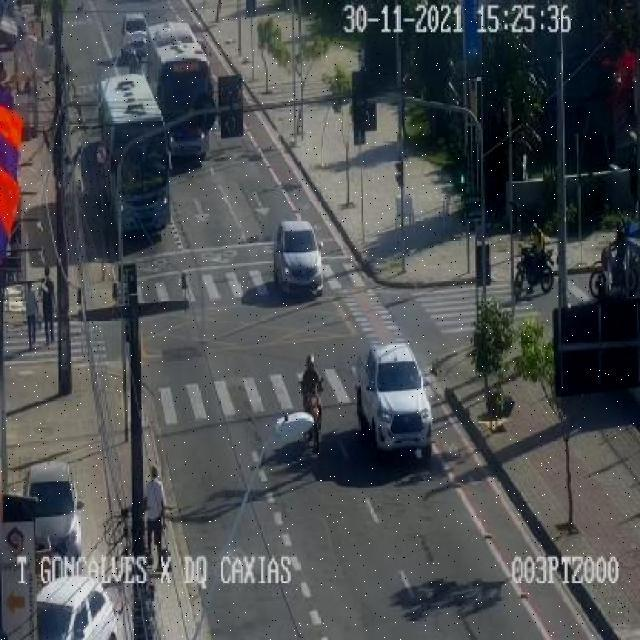Bus: (94, 76, 170, 244), (145, 21, 214, 162)
Car: (358, 341, 434, 455), (22, 460, 82, 554), (36, 575, 120, 637), (272, 220, 324, 297), (122, 12, 148, 44)
